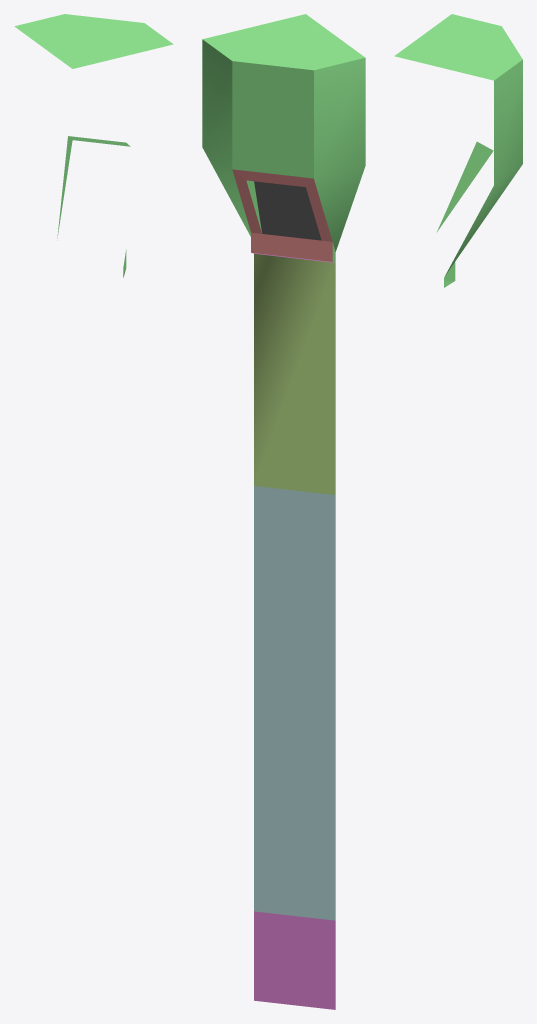
Rendered from altar_deco01.gltf.
3 renders of one model, left to right at view 1: azimuth 30°, elevation 25°; view 2: azimuth 210°, elevation 25°; view 3: azimuth 330°, elevation 25°, orthographic. The views are drawn at different scales.
Parts seen in each view (by area): view 1: altar_deco01; view 2: altar_deco01; view 3: altar_deco01.
Boxes of the visible parts, x1,y1,x2,y2 form: altar_deco01: (14,14,173,277); altar_deco01: (202,14,365,1009); altar_deco01: (394,14,522,287).
Size of the model in its own units: 2.56 by 23.04 by 2.56.
